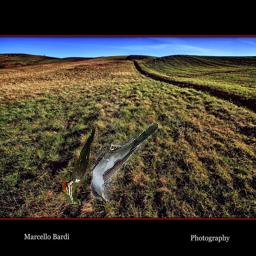Cuckoo: (92, 123, 159, 201)
Woodpecker: (62, 124, 98, 205)
